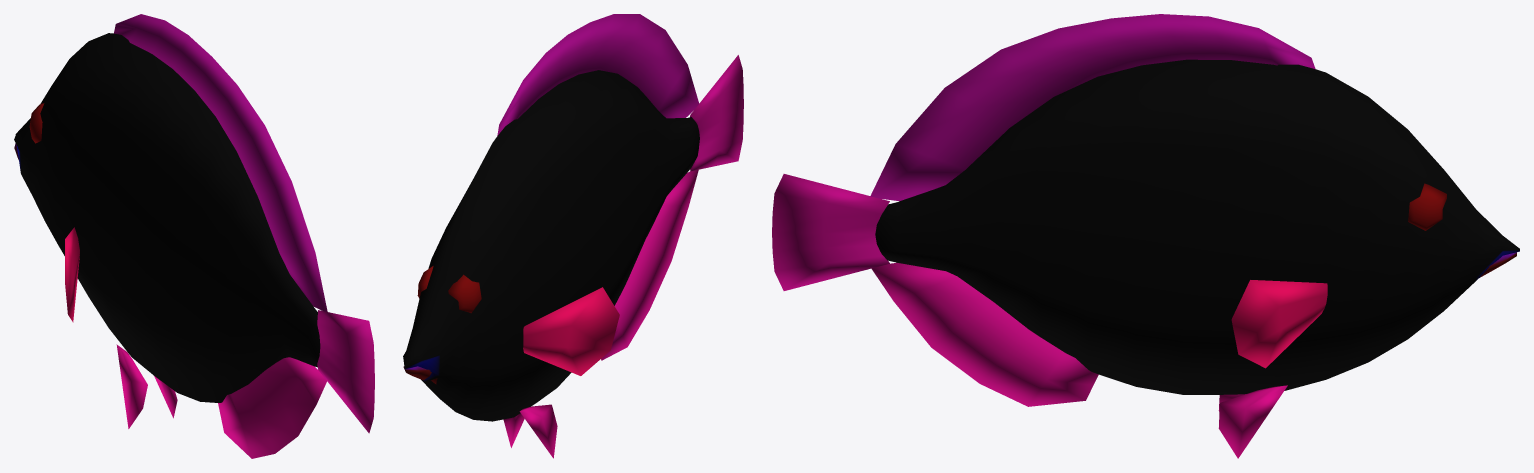
Rendered from butterflyfish_raccoon_lo.glb.
The picture shows the model from 3 angles, left to right: view 1: azimuth 30°, elevation 25°; view 2: azimuth 150°, elevation 25°; view 3: azimuth 270°, elevation 25°; orthographic projection. The views are drawn at different scales.
Visible parts, largest first — view 1: butterflyfish_raccoon_lo; view 2: butterflyfish_raccoon_lo; view 3: butterflyfish_raccoon_lo.
Part boxes in pixels (left/top/right/bottom): butterflyfish_raccoon_lo: left=14, top=14, right=374, bottom=458; butterflyfish_raccoon_lo: left=403, top=14, right=743, bottom=458; butterflyfish_raccoon_lo: left=772, top=14, right=1519, bottom=458.
Bounding box in the file's own units: 0.0517 × 0.1151 × 0.18.
